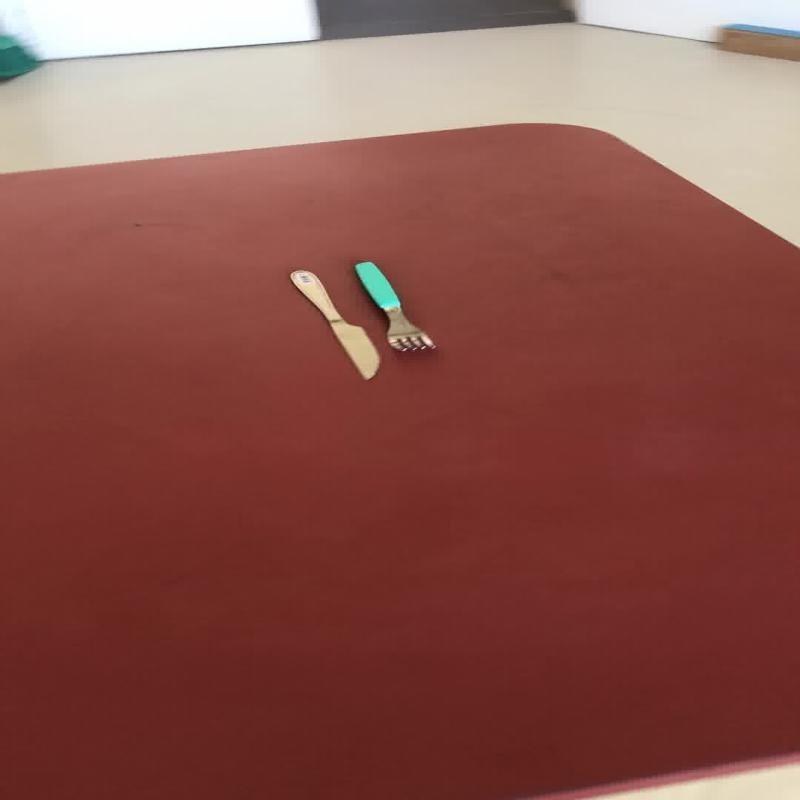fork: (288, 269, 380, 380), (353, 260, 435, 352)
knife: (287, 268, 380, 380)
